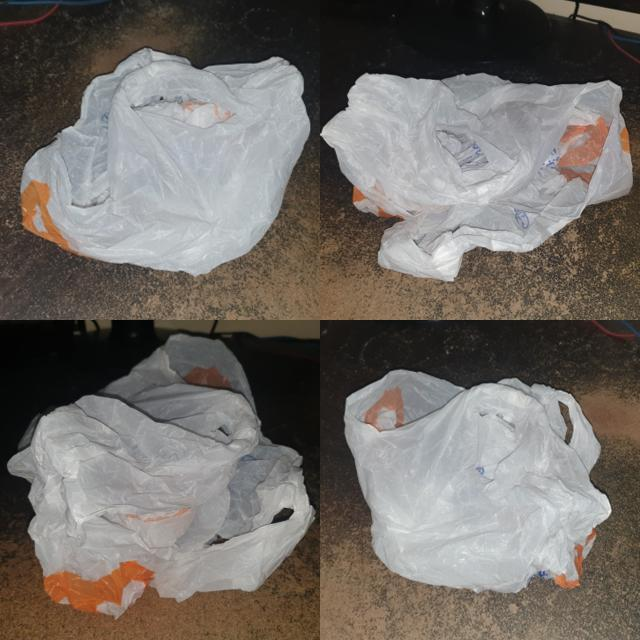Single-layer Plastic: (8, 335, 314, 618), (21, 49, 310, 275), (321, 74, 632, 281), (344, 370, 611, 592)
